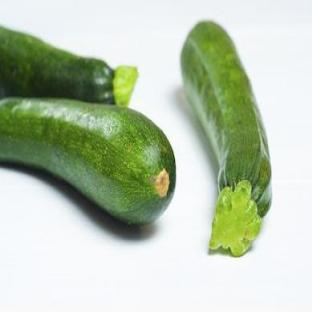Zucchini: (0, 99, 175, 224), (182, 22, 271, 255), (0, 27, 137, 105)
